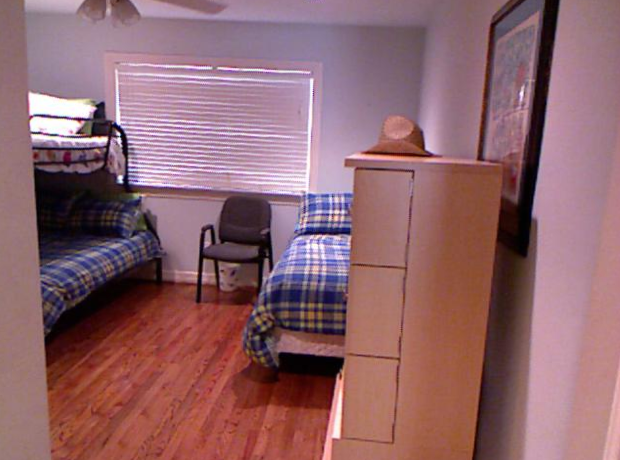cabinet: (341, 154, 477, 459)
chair: (196, 197, 277, 301)
window: (117, 67, 309, 189)
